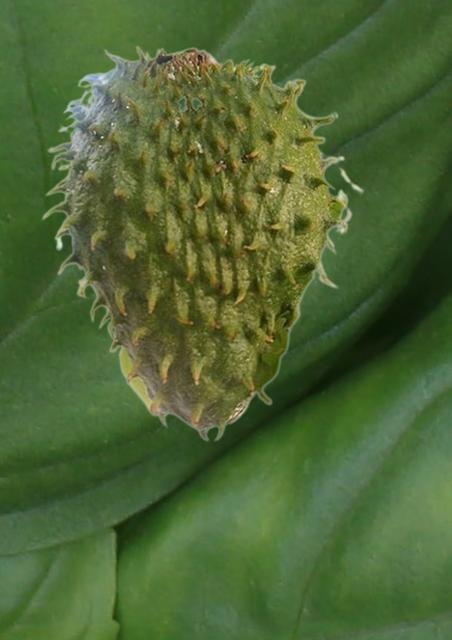guyabano: (41, 45, 364, 441)
